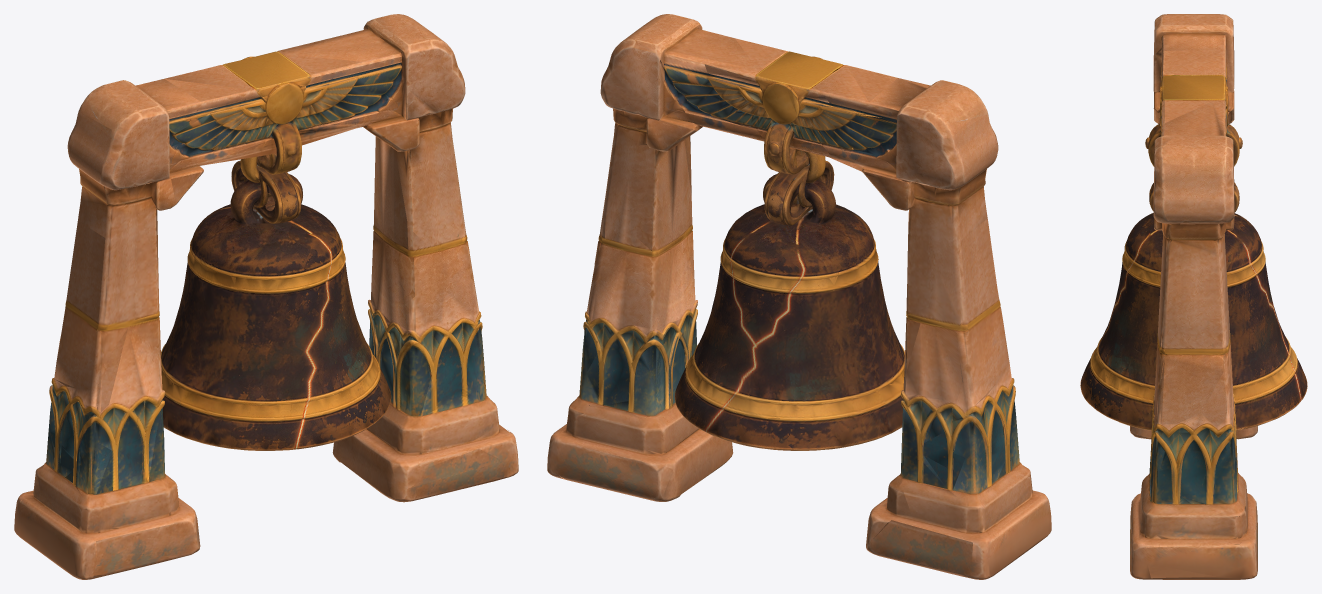
The model's file is Bell.fbx.
3 views of the same model, side by side, from view 1: azimuth 30°, elevation 25°; view 2: azimuth 150°, elevation 25°; view 3: azimuth 270°, elevation 25° (orthographic). The views are drawn at different scales.
Visible parts, largest first — view 1: Mesh_0; view 2: Mesh_0; view 3: Mesh_0.
Boxes of the visible parts, x1,y1,x2,y2 form: Mesh_0: (14,14,518,579); Mesh_0: (547,14,1051,579); Mesh_0: (1080,14,1307,579).
Size of the model in its own units: 190 by 182 by 92.82.
Materials: 1 (1 with a texture image).
